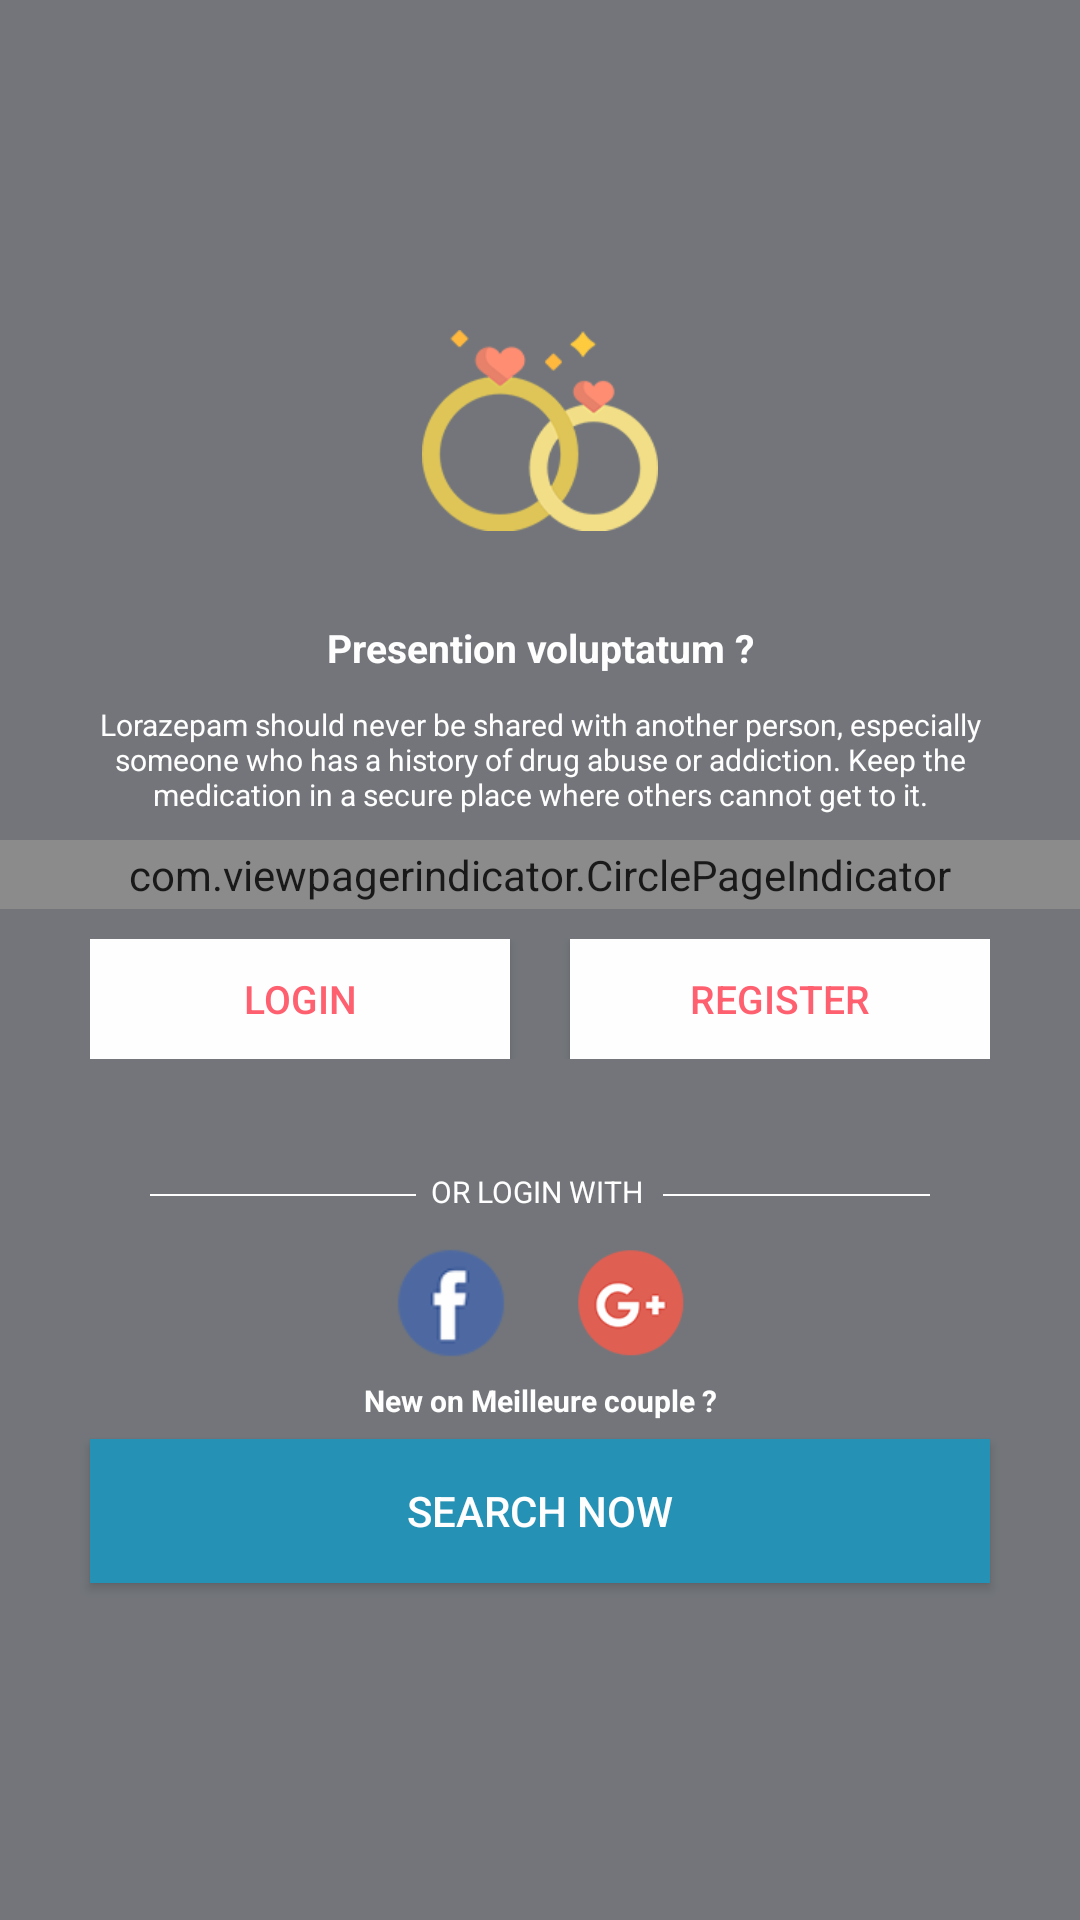

Locate icon controls on the screen. Image size 1080×1920, boxes as {"left": x1, "top": y1, "right": x2, "bottom": y2}.
ring: {"left": 422, "top": 330, "right": 658, "bottom": 531}
